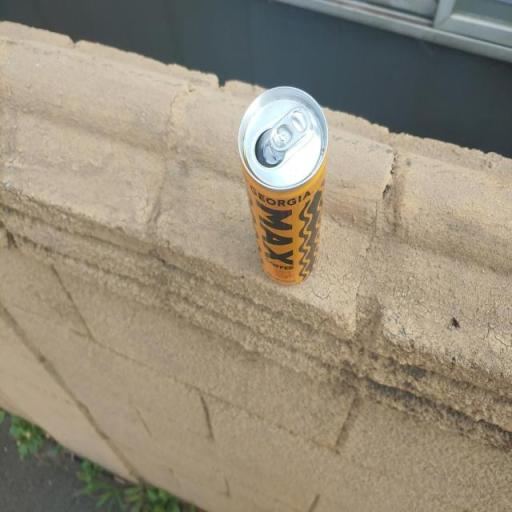metal: (223, 56, 359, 302)
